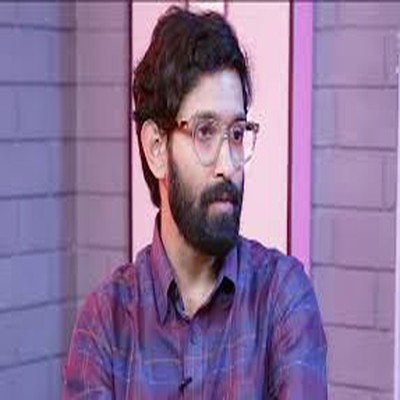eywear: (163, 89, 273, 156)
